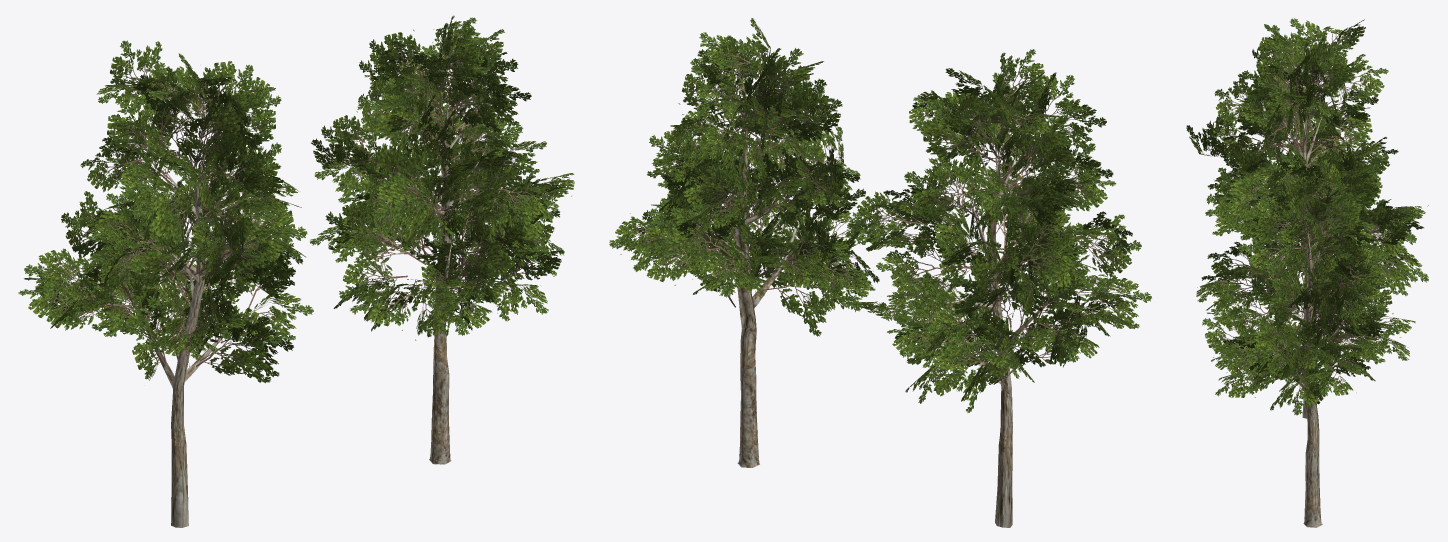
File: birch.glb
3 renders of one model, left to right at view 1: azimuth 30°, elevation 25°; view 2: azimuth 150°, elevation 25°; view 3: azimuth 270°, elevation 25°, orthographic. The views are drawn at different scales.
Parts seen in each view (by area): view 1: Tree 1, Tree 2; view 2: Tree 1, Tree 2; view 3: Tree 2, Tree 1.
Boxes of the visible parts, x1,y1,x2,y2 form: Tree 1: (18, 40, 313, 527); Tree 2: (310, 15, 574, 464); Tree 1: (845, 49, 1151, 527); Tree 2: (609, 18, 879, 467); Tree 2: (1196, 152, 1417, 527); Tree 1: (1186, 18, 1428, 418).
Size of the model in its own units: 10.73 by 8.99 by 5.21.
1 material, 1 textured.
